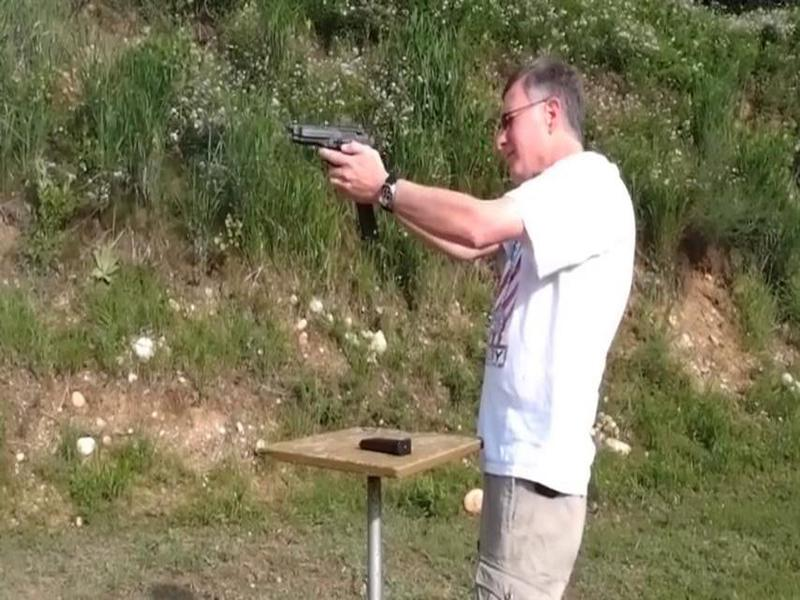Pistola: (275, 102, 399, 216)
